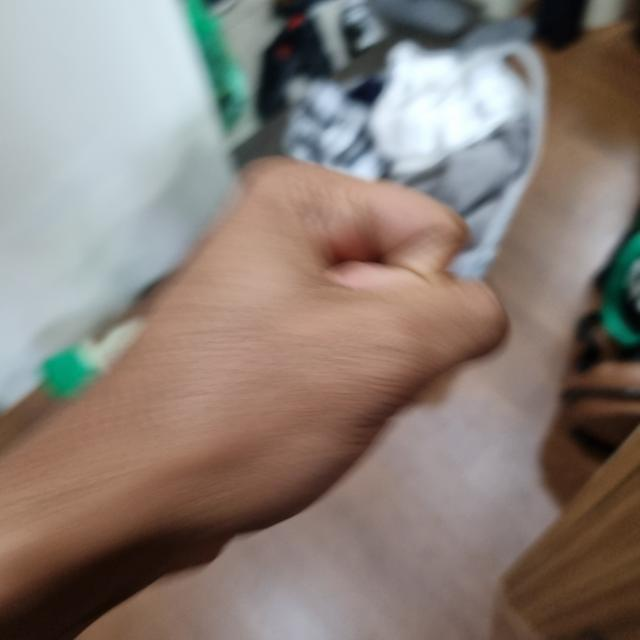Rock: (66, 162, 501, 544)
